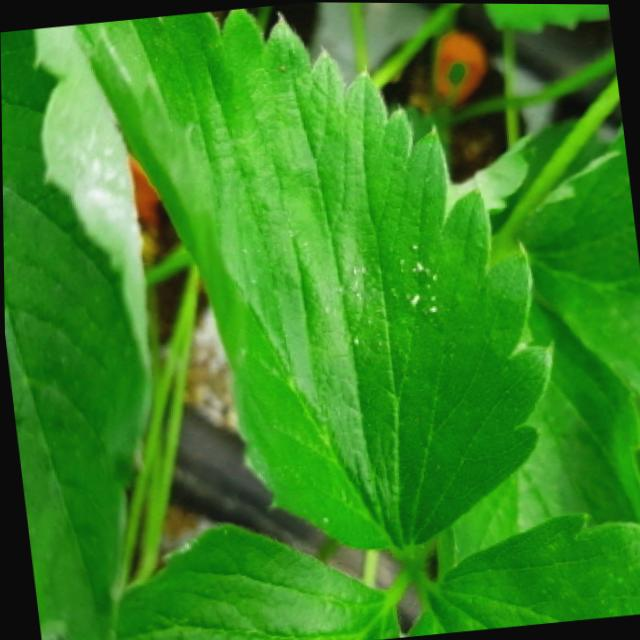Powdery Mildew Leaf: (68, 7, 556, 551), (0, 25, 152, 640)
